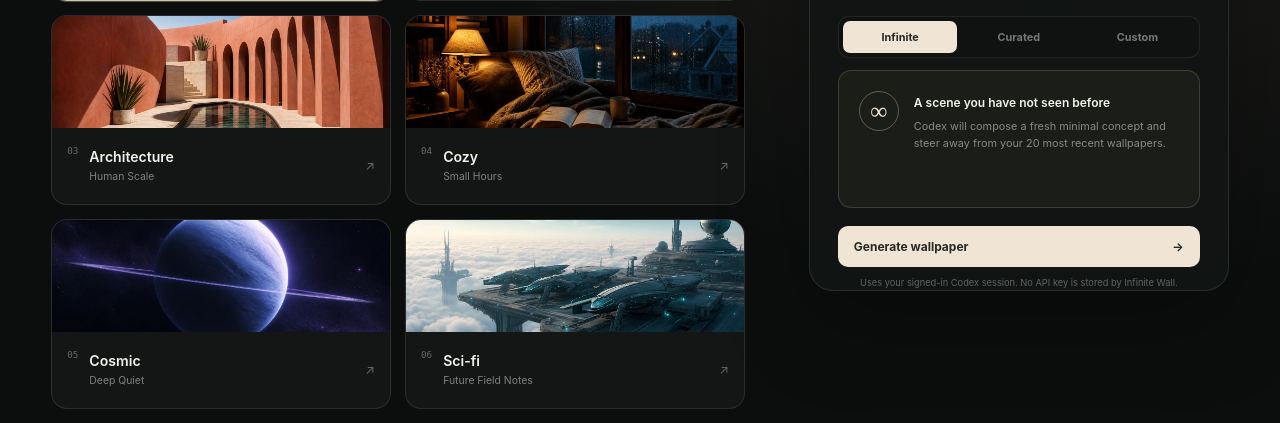
Test: theme selection experience › rejects an imported preview and removes it from the local library
The image size is (1280, 423).
(page scrolled)
Click the button "Generate wallpaper →" at (911, 247), box x1=838 y1=226 x2=1200 y2=267
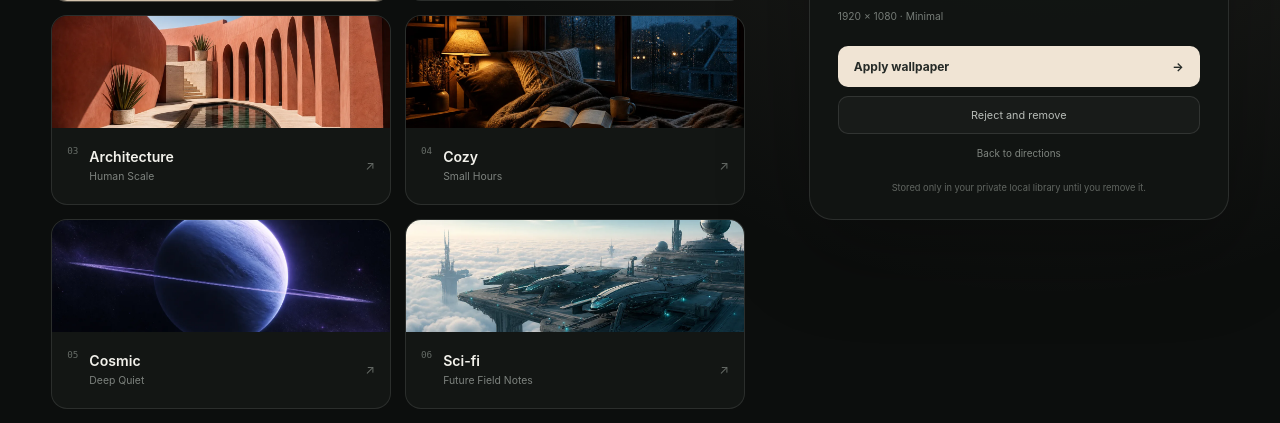
Click the button "Reject and remove" at (1019, 115), box x1=838 y1=96 x2=1200 y2=134
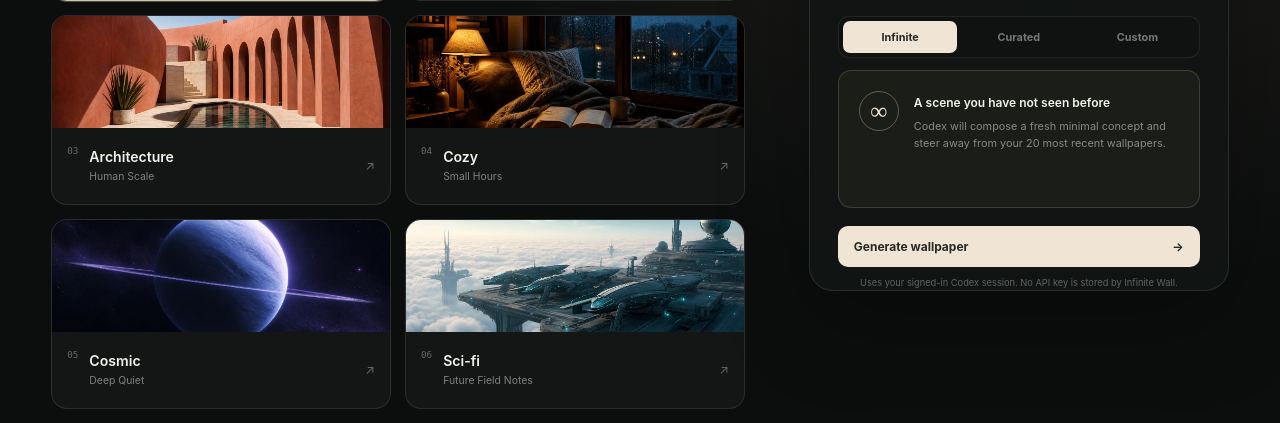
Now the button "Reject and remove" is gone
